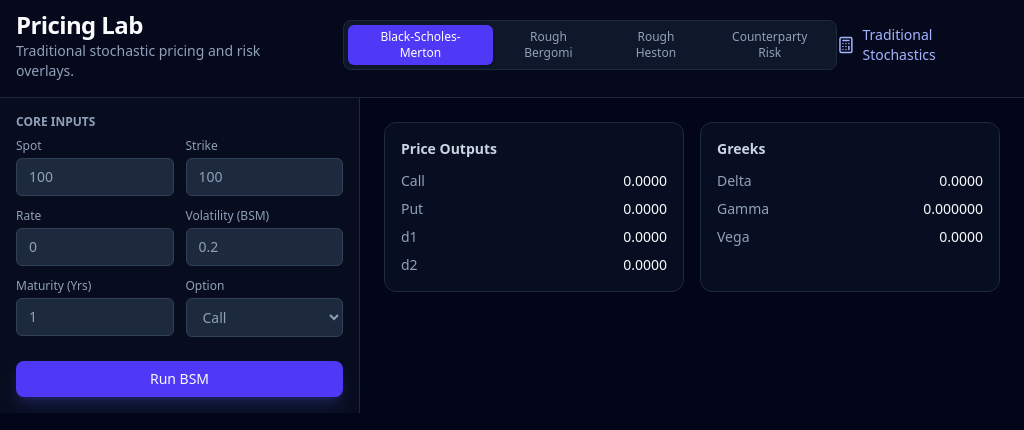
PricingTab › should run BSM calculation
Click the button "Run BSM": click(180, 379) [16,361,343,397]
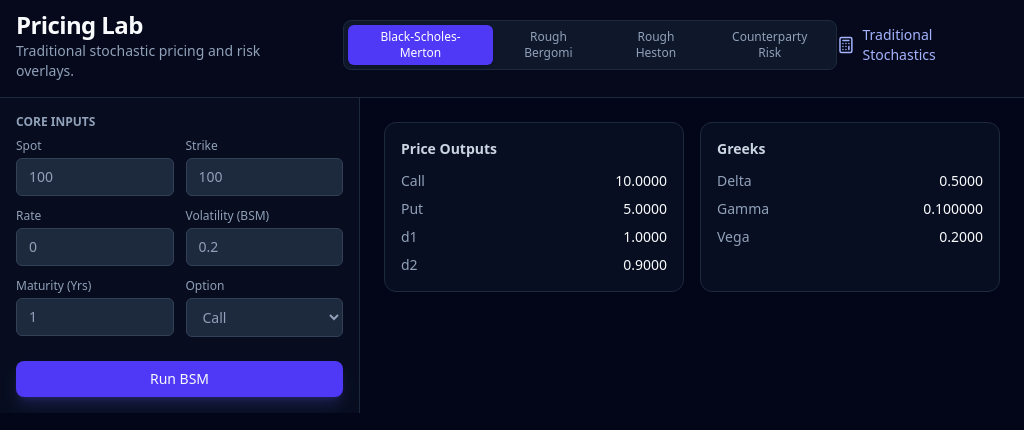
Expected: the text "10.0000" is shown, [615,171,667,191]
